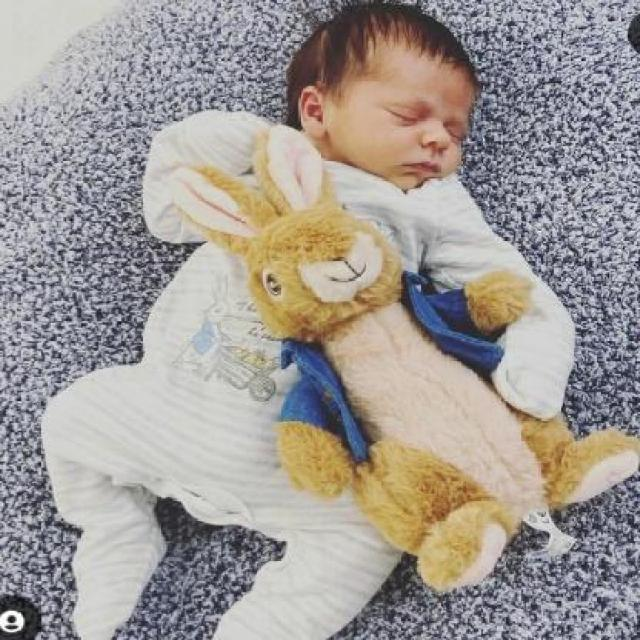baby: (43, 1, 579, 637)
